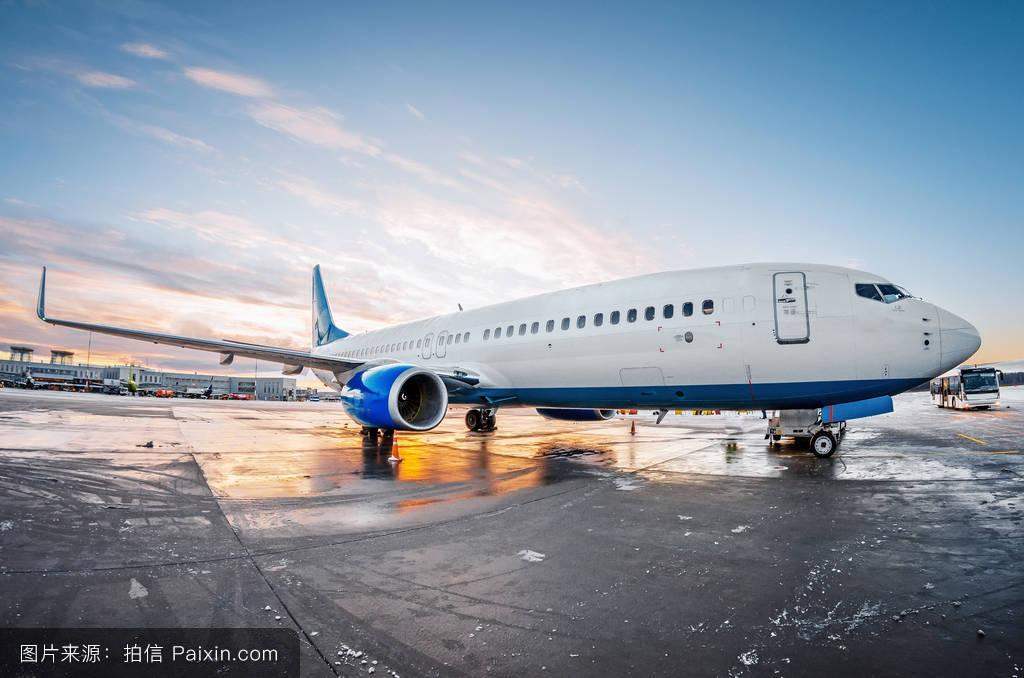airplane: (26, 253, 981, 462)
